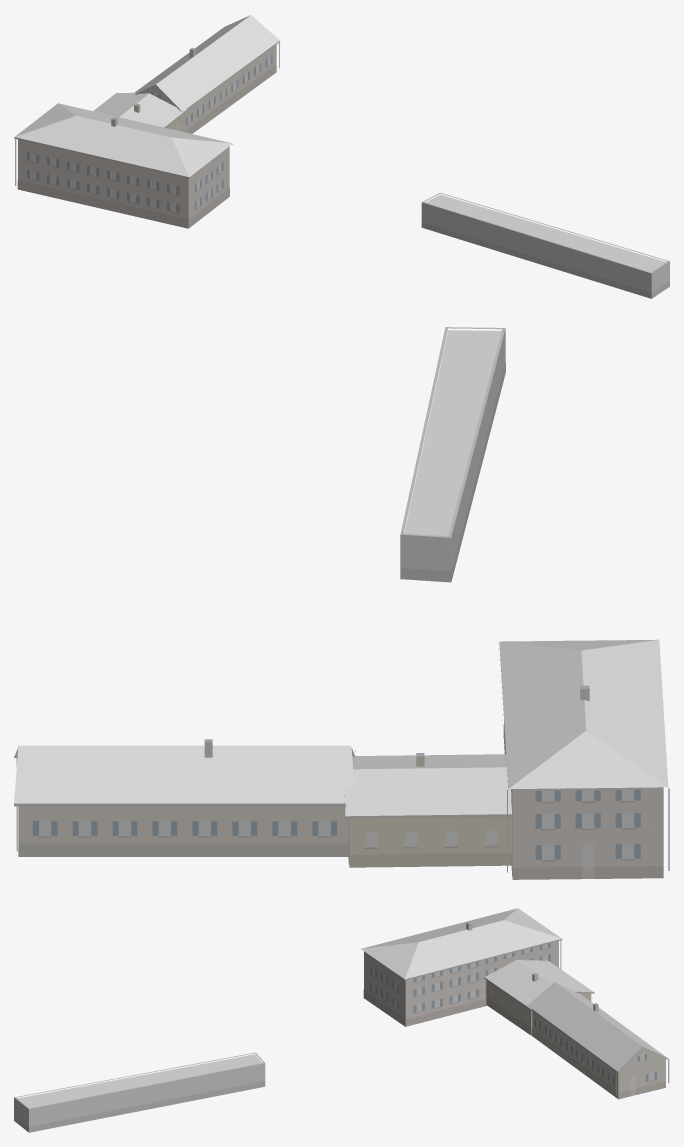
The picture shows the model from 3 angles, top to bottom: view 1: azimuth 30°, elevation 25°; view 2: azimuth 150°, elevation 25°; view 3: azimuth 270°, elevation 25°; orthographic projection. The views are drawn at different scales.
Parts seen in each view (by area): view 1: bld; view 2: bld; view 3: bld.
Boxes of the visible parts, left/top/right/bottom form: bld: left=14, top=15, right=669, bottom=298; bld: left=14, top=327, right=669, bottom=879; bld: left=14, top=908, right=669, bottom=1132.
Bounding box in the file's own units: 63.6 × 11.26 × 99.54.
